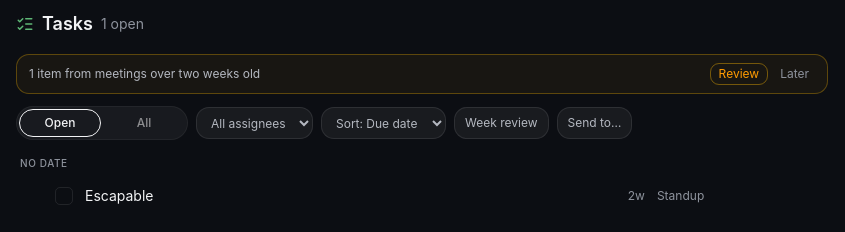
it: TasksView › multi-select & bulk actions (plan v10 #10) › Escape clears the selection and restores the filter row
Expected: the text "Escapable" is shown, [85,187,154,204]
Click the checkbox labelled "Escapable 2w Standup" at (380, 196), box [55,186,704,206]
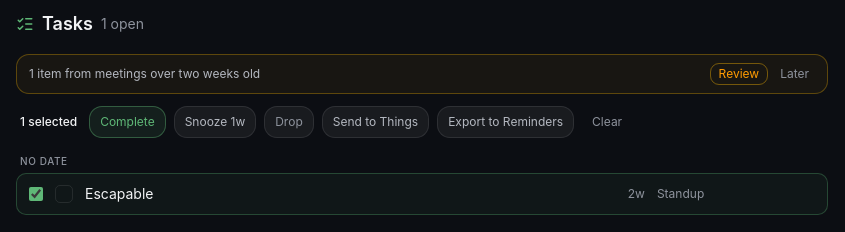
Now the text "1 selected" is shown, box [16,114,81,130]
Now the button "All" is gone
Press Escape in the checkbox named "Select “Escapable”", box [29,187,43,201]
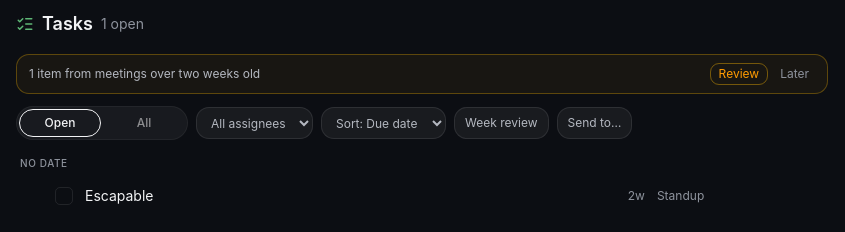
Now the text "1 selected" is gone
Now the button "All" is shown, box [103,109,185,137]
